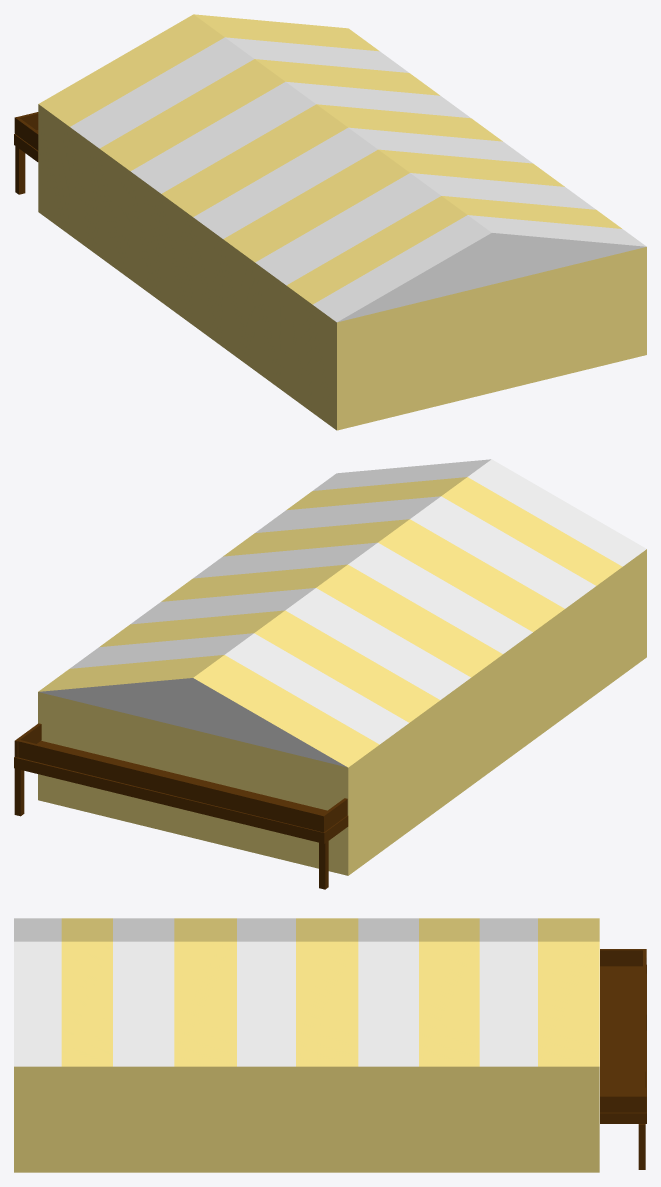
Rendered from Zelt_hellbraun_steifendach2.fbx.
3 renders of one model, top to bottom at view 1: azimuth 30°, elevation 25°; view 2: azimuth 150°, elevation 25°; view 3: azimuth 270°, elevation 25°, orthographic. The views are drawn at different scales.
Visible parts, largest first — view 1: Cube.001; view 2: Cube.001, Cube.005, Cube.002; view 3: Cube.001, Cube.002, Cube.004, Cube.003, Cube.005.
Boxes of the visible parts, x1,y1,x2,y2 form: Cube.001: (38, 14, 646, 430); Cube.001: (38, 459, 646, 875); Cube.005: (18, 740, 322, 831); Cube.002: (14, 740, 348, 843); Cube.001: (14, 918, 599, 1172); Cube.002: (600, 965, 646, 1123); Cube.004: (600, 1095, 646, 1112); Cube.003: (600, 949, 646, 966); Cube.005: (642, 950, 646, 1095).
Bounding box in the file's own units: 3003 × 1531 × 5405.
